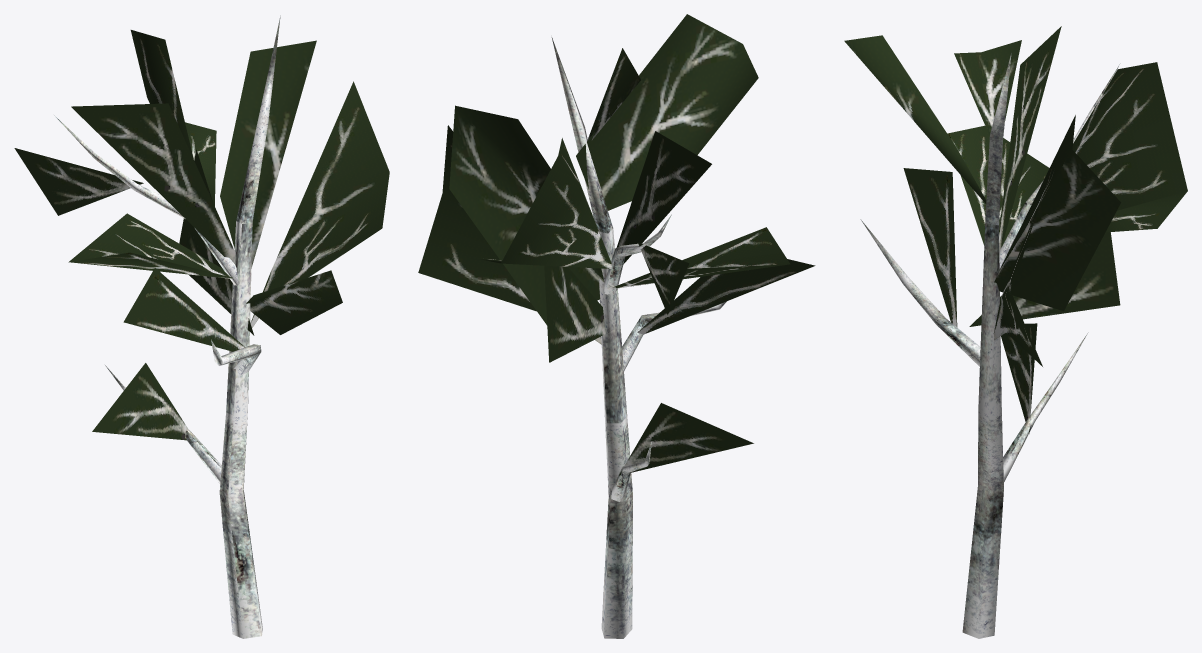
Rendered from snow_wj5.fbx.
3 views of the same model, side by side, from view 1: azimuth 30°, elevation 25°; view 2: azimuth 150°, elevation 25°; view 3: azimuth 270°, elevation 25° (orthographic).
Visible parts, largest first — view 1: snow_wj5; view 2: snow_wj5; view 3: snow_wj5.
Part boxes in pixels (<box>): snow_wj5: <box>14,15,389,638</box>; snow_wj5: <box>418,14,815,638</box>; snow_wj5: <box>844,26,1187,638</box>.
Bounding box in the file's own units: 1193 × 1986 × 1021.
